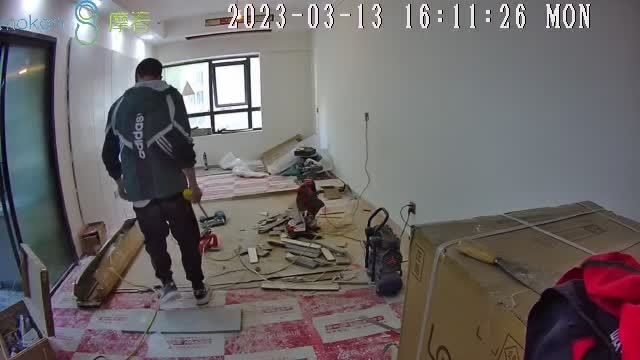people: (102, 58, 212, 305)
window: (153, 52, 261, 132)
